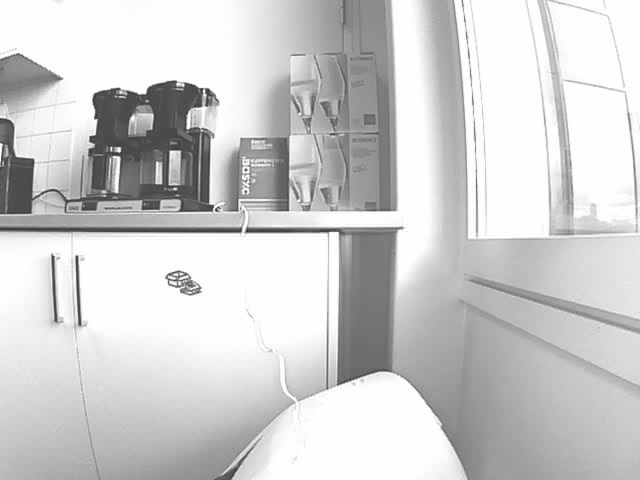not empty coffee: (140, 141, 195, 195)
